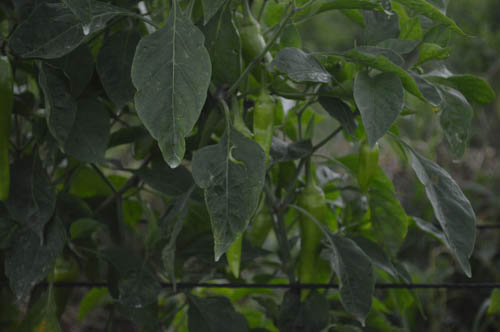ChiliPepper: (297, 193, 316, 294), (248, 101, 276, 166), (242, 27, 273, 80), (352, 141, 379, 194)
